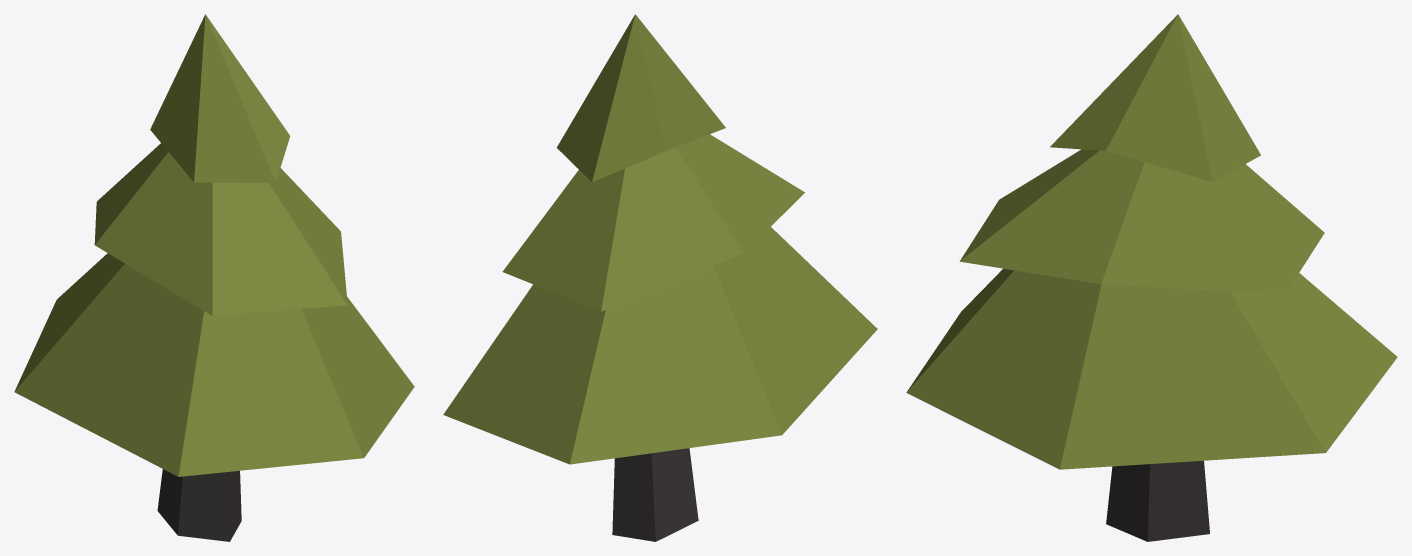
The model's file is TB_Env_Tree_Small_C.FBX.
3 views of the same model, side by side, from view 1: azimuth 30°, elevation 25°; view 2: azimuth 150°, elevation 25°; view 3: azimuth 270°, elevation 25° (orthographic). The views are drawn at different scales.
Parts seen in each view (by area): view 1: TB_Env_Tree_Small_C; view 2: TB_Env_Tree_Small_C; view 3: TB_Env_Tree_Small_C.
Boxes of the visible parts, bbox=[...] form: TB_Env_Tree_Small_C: bbox=[14, 14, 414, 541]; TB_Env_Tree_Small_C: bbox=[443, 14, 877, 541]; TB_Env_Tree_Small_C: bbox=[906, 14, 1397, 541].
Size of the model in its own units: 2.93 by 4.4 by 3.79.
